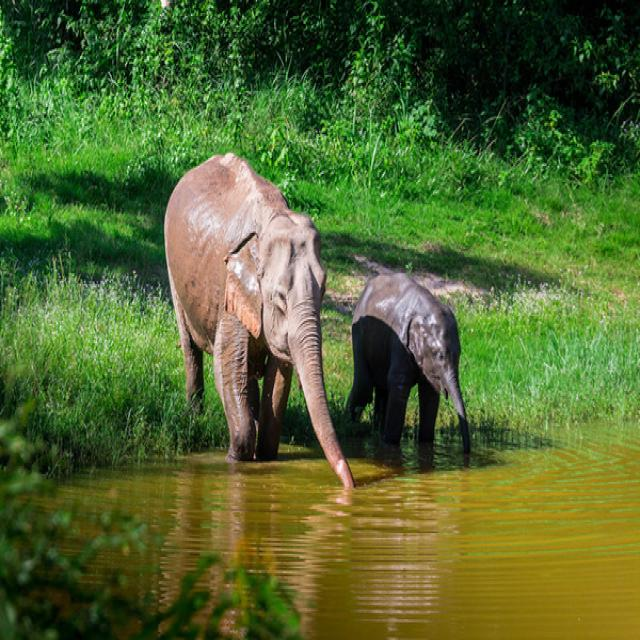Elephant: (148, 150, 360, 514), (336, 272, 484, 470)
